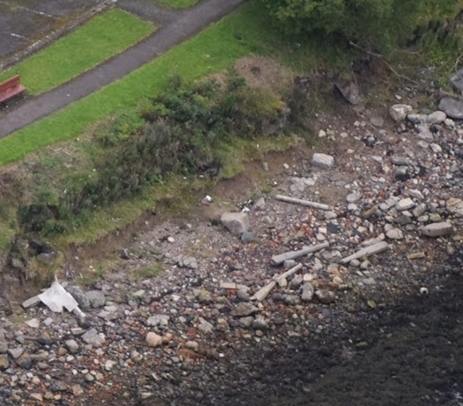straight_bar: (268, 235, 332, 272), (335, 234, 399, 271), (248, 260, 300, 305), (272, 181, 333, 216)
white_in_green: (29, 273, 86, 321)
